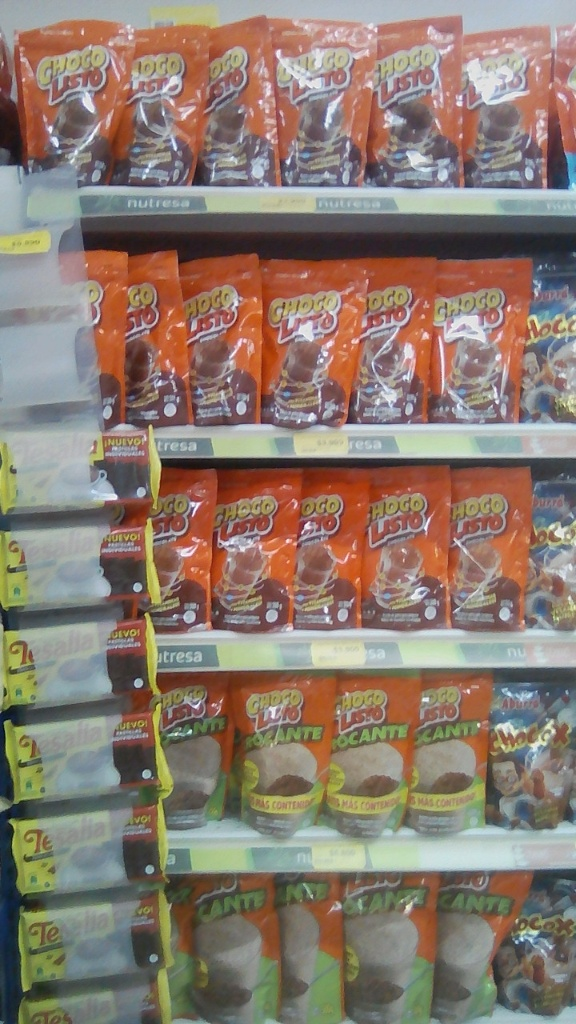COL0170102DYP25000: (152, 672, 229, 826)
COL0170102DYP50000: (433, 870, 533, 1020)
COL0170104DYP20000: (457, 29, 554, 187)
